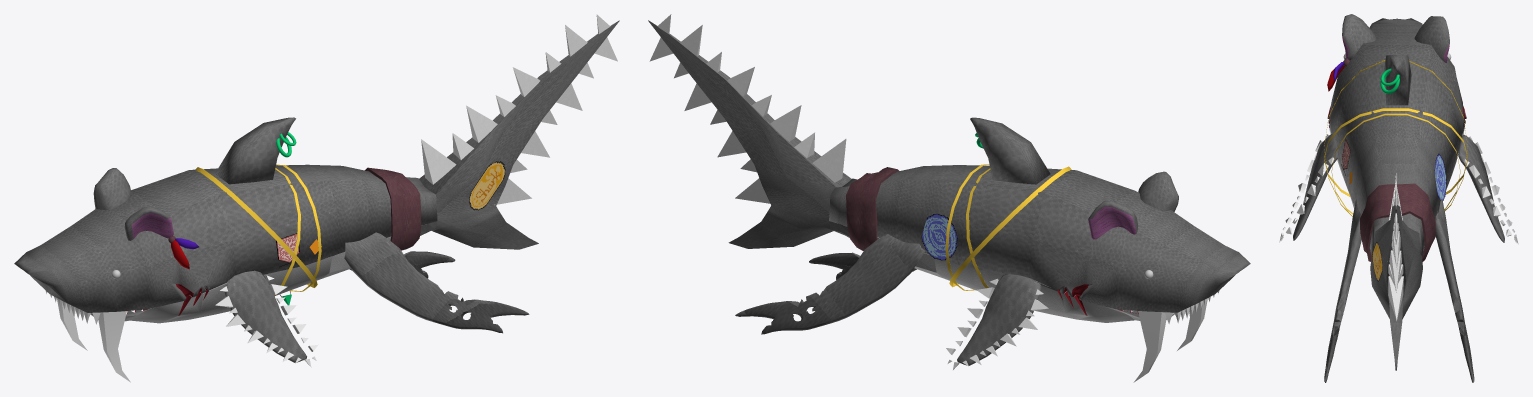
File: shisokus.FBX
3 renders of one model, left to right at view 1: azimuth 30°, elevation 25°; view 2: azimuth 150°, elevation 25°; view 3: azimuth 270°, elevation 25°, orthographic.
Visible parts, largest first — view 1: uebody, sippo, obire, sitabody, hire, uebire, mi (×2), Tube005, longkiba, Plane003, Tube002, Pyramid073 (+2 smaller); view 2: uebody, sippo, obire001, hire001, sitabody, uebire, mi (×2), Tube005, Plane001, longkiba001, Tube002, Pyramid073 (+2 smaller); view 3: uebody, sippo, Tube005, mi (×2), obire001, obire, hire001, hire, uebire, Tube001, Tube003, Pyramid087 (+4 smaller).
Part boxes in pixels (x1,y1,x2,y2): uebody: (14,164,437,312); sippo: (419,20,619,249); obire: (344,232,529,333); sitabody: (90,221,437,323); hire: (224,270,306,362); uebire: (215,117,295,184); mi (×2): (93,168,173,240); Tube005: (365,167,421,250); longkiba: (98,311,130,382); Plane003: (469,161,505,210); Tube002: (195,167,317,287); Pyramid073: (421,139,456,184); uebody: (829,165,1250,312); sippo: (648,20,851,248); obire001: (735,234,925,334); hire001: (957,274,1042,365); sitabody: (829,221,1174,322); uebire: (970,117,1050,184); mi (×2): (1088,171,1178,239); Tube005: (846,167,898,250); Plane001: (921,214,957,260); longkiba001: (1133,311,1166,382); Tube002: (949,166,1071,286); Pyramid073: (812,139,846,182); uebody: (1327,18,1466,255); sippo: (1370,205,1422,370); Tube005: (1360,183,1435,261); mi (×2): (1342,14,1449,62); obire001: (1434,198,1474,382); obire: (1324,199,1361,382); hire001: (1458,134,1504,242); hire: (1293,133,1337,240); uebire: (1383,55,1411,105); Tube001: (1324,108,1467,197); Tube003: (1331,113,1460,214); Pyramid087: (1388,276,1403,320).
Bounding box in the file's own units: 526 × 183 × 220.
